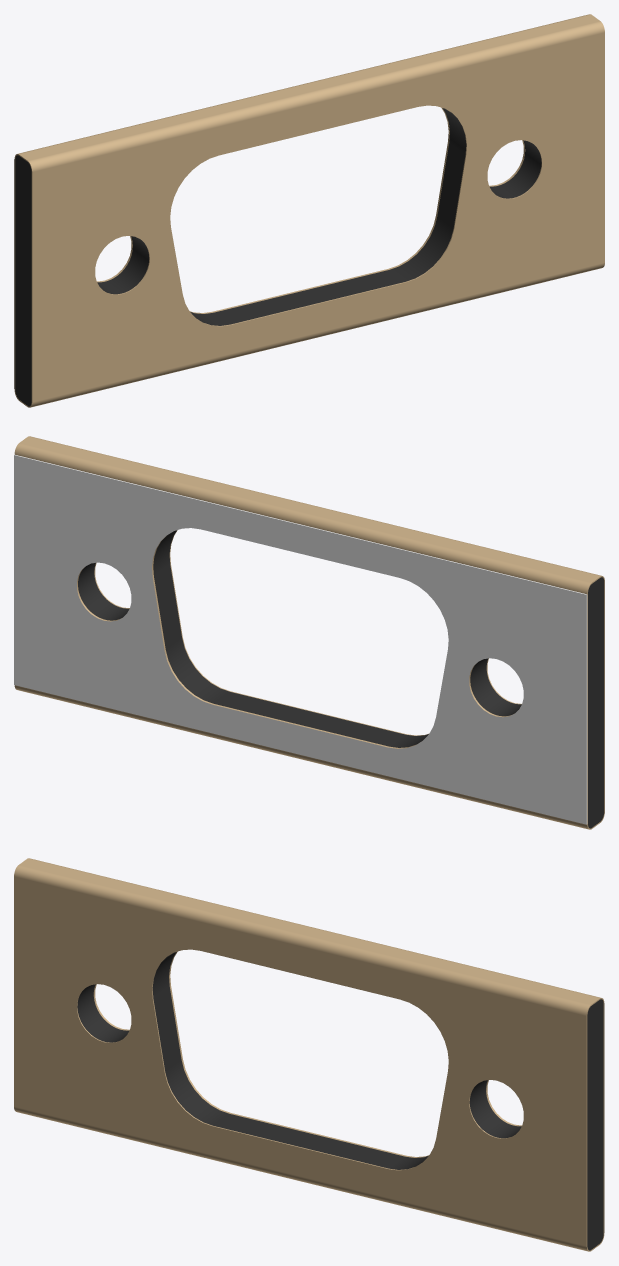
The model's file is WE-EGS Conductive Elastomer Gasket.gltf.
3 views of the same model, one above another, from view 1: azimuth 30°, elevation 25°; view 2: azimuth 150°, elevation 25°; view 3: azimuth 330°, elevation 25° (orthographic).
Parts seen in each view (by area): view 1: 1; view 2: 1; view 3: 1.
Part boxes in pixels (left/top/right/bottom): 1: left=14, top=14, right=604, bottom=407; 1: left=14, top=436, right=604, bottom=829; 1: left=14, top=858, right=604, bottom=1251.
Size of the model in its own units: 0.0365 by 0.015 by 0.00202.
